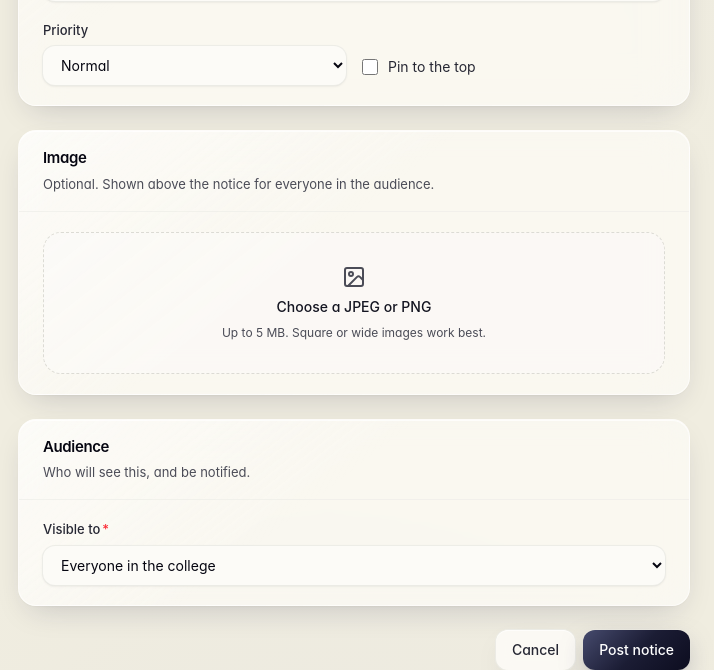
ComposeAnnouncement › validates title and body before submitting
This screenshot has width=714, height=670.
(page scrolled)
What coordinates should you click on to do the following:
click the button "Post notice"
I would click on:
 (637, 650)
Its box is left=583, top=630, right=690, bottom=669.
(page scrolled)
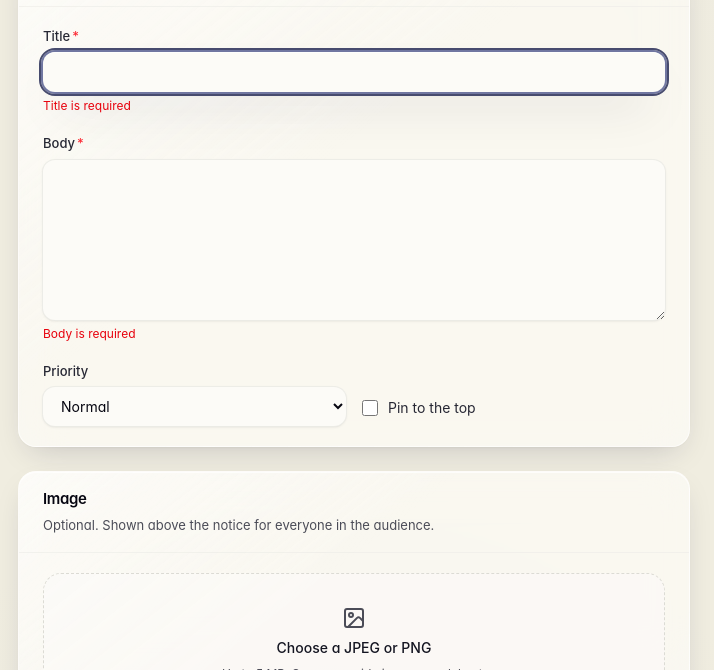
expect the text "Title is required" is shown: met, box left=43, top=98, right=131, bottom=113
expect the text "Body is required" is shown: met, box left=43, top=326, right=136, bottom=340
